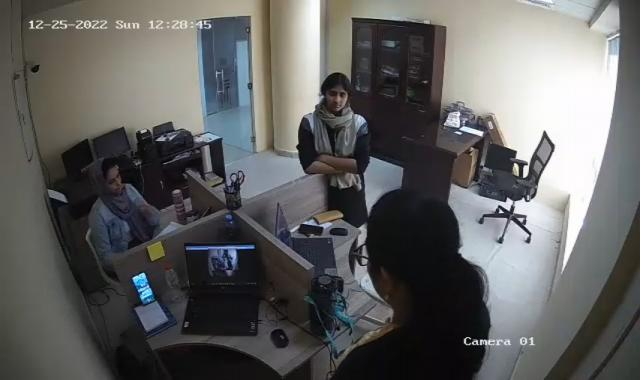no_hairnet: (356, 189, 475, 314), (319, 66, 351, 110), (86, 158, 124, 192)
